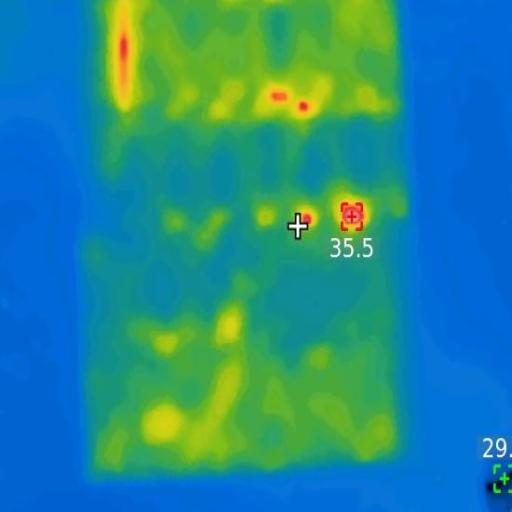hotspot: (335, 201, 370, 236), (116, 27, 130, 80), (300, 213, 317, 228), (272, 86, 289, 101), (296, 102, 313, 114)
